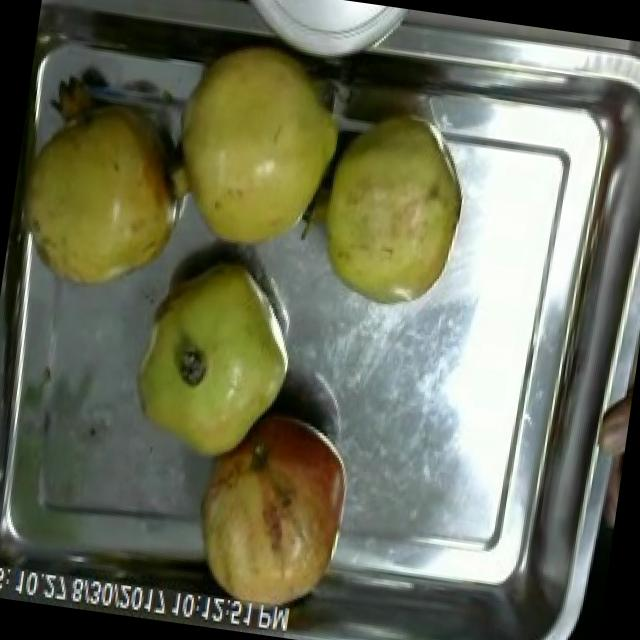fruit: (152, 23, 364, 276), (1, 67, 210, 318), (118, 240, 310, 478), (178, 394, 362, 638), (304, 92, 481, 326)
